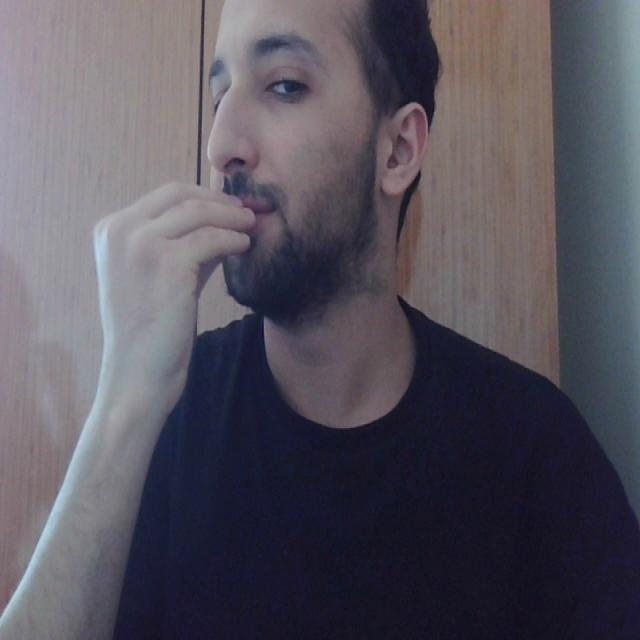Yemek: (80, 173, 283, 269)
